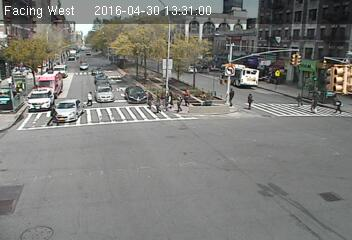neg: (286, 150, 309, 180), (6, 78, 22, 99), (278, 47, 294, 68), (129, 34, 144, 55), (316, 60, 331, 80), (209, 176, 224, 195), (319, 136, 333, 156), (174, 188, 187, 205), (250, 132, 262, 148), (137, 160, 148, 175), (34, 222, 45, 237), (47, 52, 58, 66), (45, 166, 55, 181), (257, 14, 267, 28), (260, 187, 270, 200), (79, 49, 89, 61), (161, 45, 170, 57), (119, 118, 127, 129), (230, 40, 238, 51), (190, 50, 198, 60), (100, 116, 106, 124), (185, 133, 190, 139)
pos: (43, 101, 60, 124), (329, 96, 346, 118), (305, 95, 322, 117), (242, 89, 257, 110), (155, 91, 170, 112), (291, 88, 306, 108), (222, 85, 237, 105), (162, 90, 177, 110), (149, 93, 164, 112), (172, 93, 186, 111), (142, 90, 155, 108), (83, 88, 96, 106)
